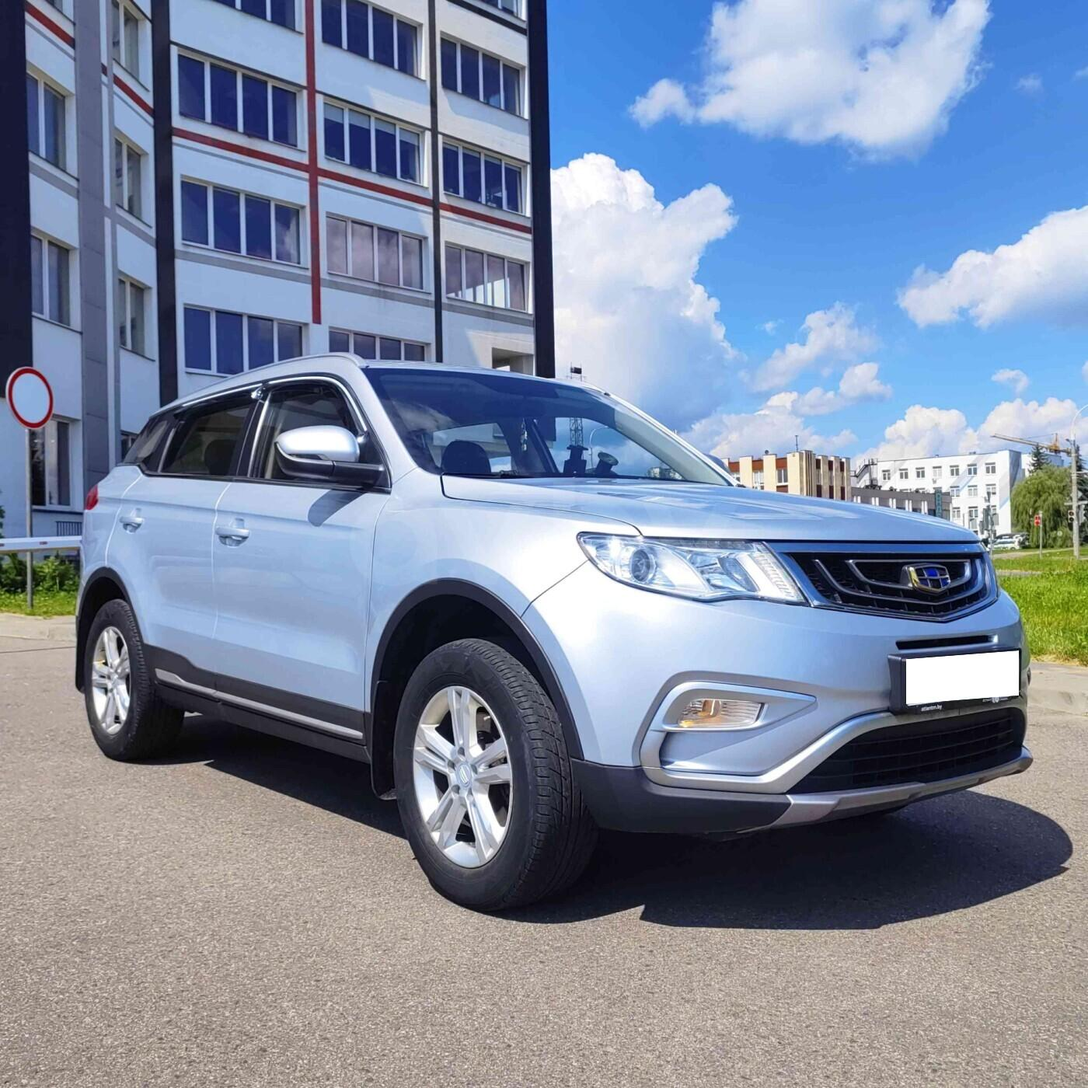Atlas_2016-2023: (68, 351, 1032, 908)
